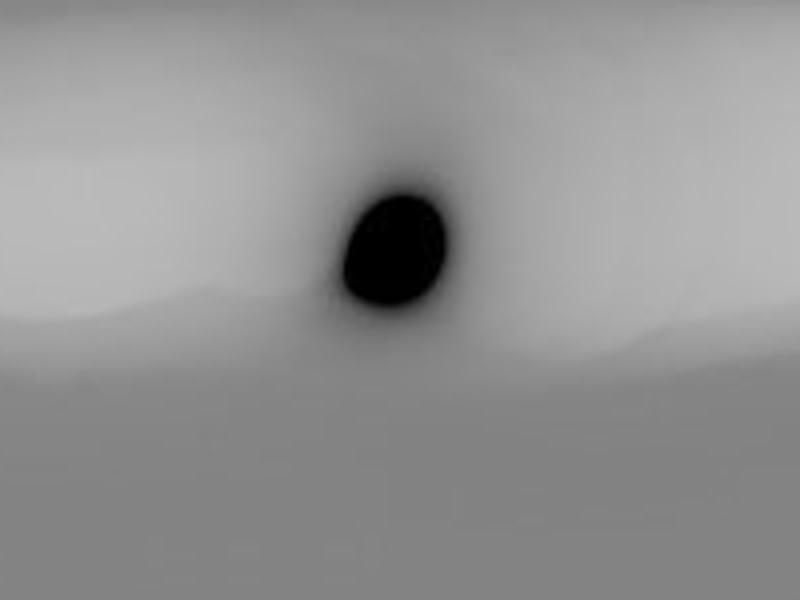defect: (337, 192, 450, 313)
